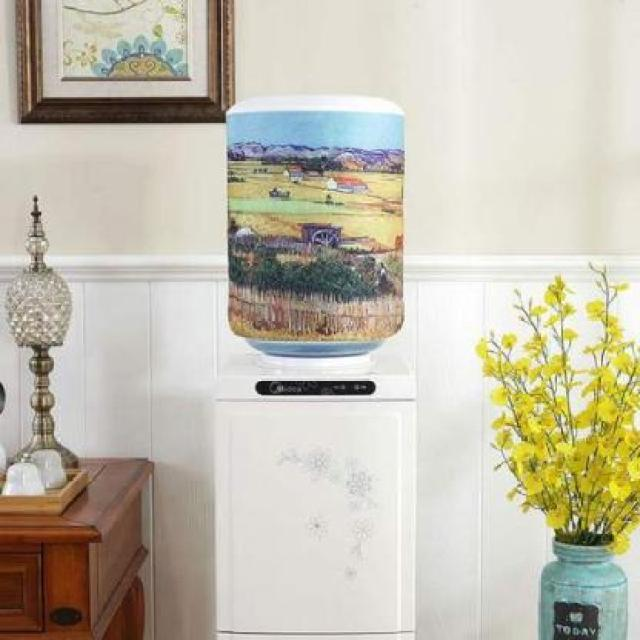coolerbottle: (223, 89, 415, 363)
